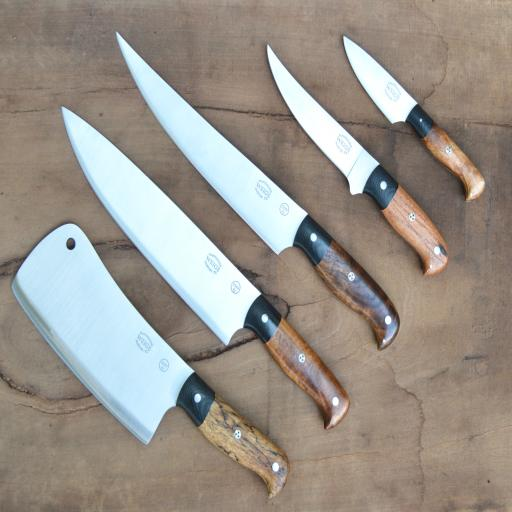knife: (93, 30, 413, 367)
